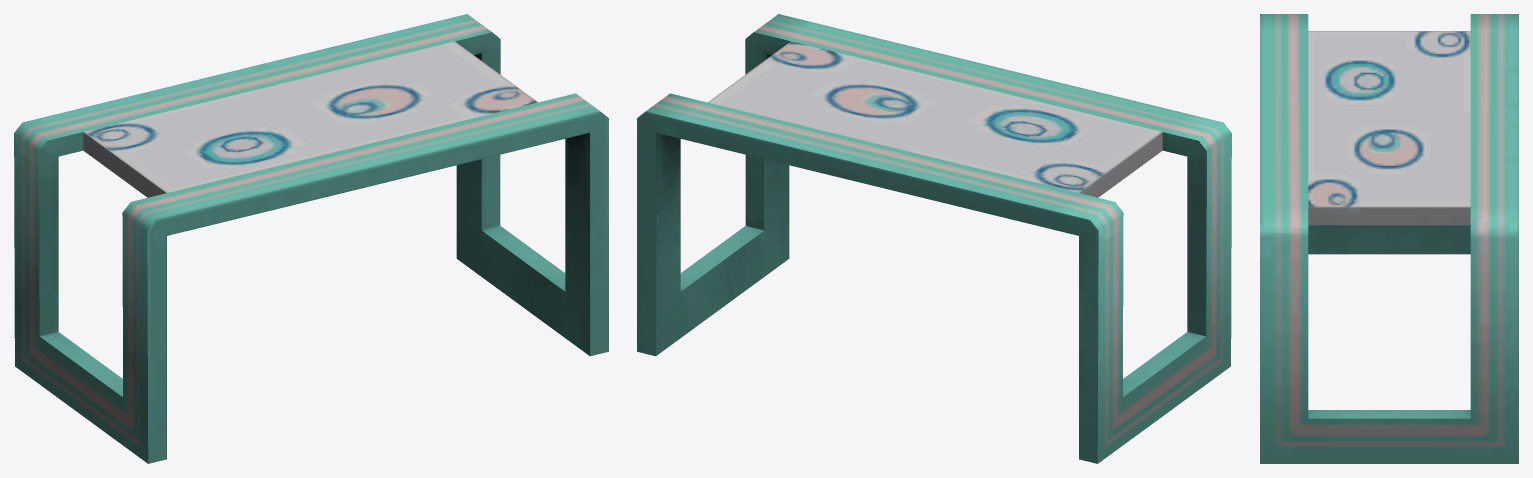
The model's file is furni_0200506_02.FBX.
3 renders of one model, left to right at view 1: azimuth 30°, elevation 25°; view 2: azimuth 150°, elevation 25°; view 3: azimuth 270°, elevation 25°, orthographic. The views are drawn at different scales.
Visible parts, largest first — view 1: furni_0200506_02; view 2: furni_0200506_02; view 3: furni_0200506_02.
Part boxes in pixels (left/top/right/bottom): furni_0200506_02: left=14, top=14, right=608, bottom=463; furni_0200506_02: left=637, top=14, right=1231, bottom=463; furni_0200506_02: left=1260, top=14, right=1518, bottom=463.
Size of the model in its own units: 160 by 80.19 by 80.
1 material, 1 textured.
